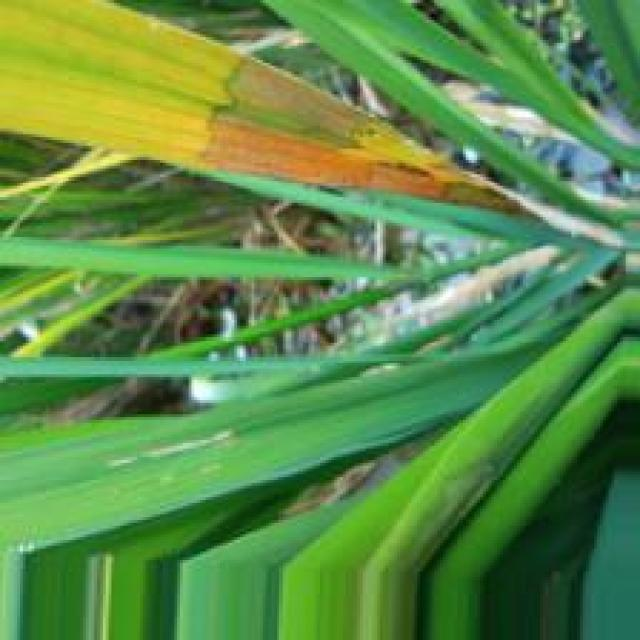Leaf_Scald: (191, 56, 459, 202)
